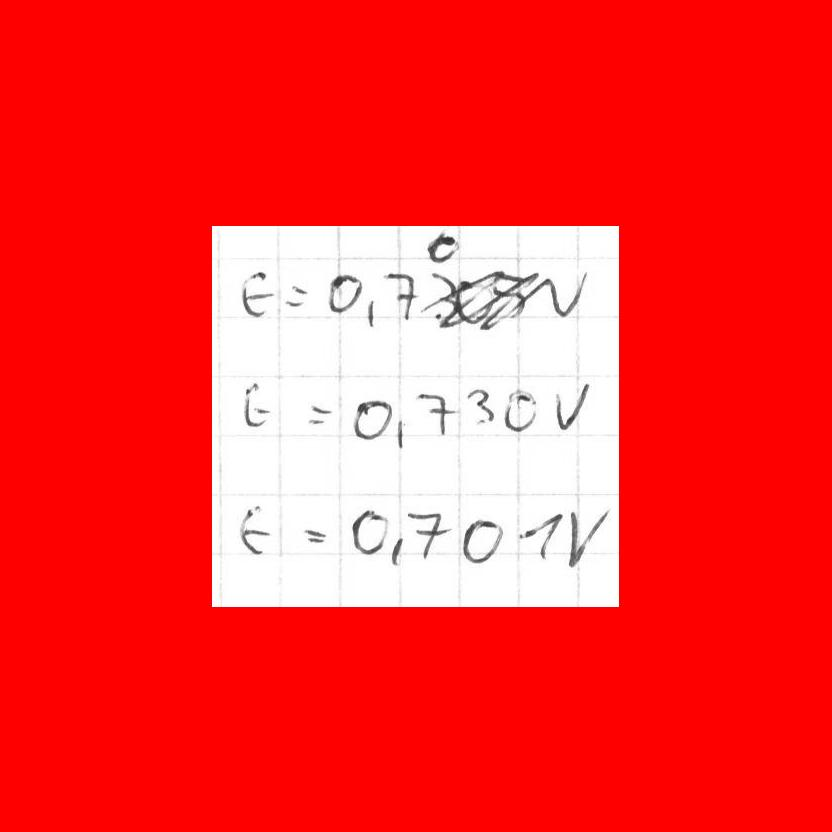Char: (567, 506, 612, 567), (516, 508, 563, 563), (550, 380, 592, 434), (543, 271, 588, 321), (349, 506, 388, 560), (407, 510, 448, 561), (237, 505, 277, 555), (350, 398, 393, 444), (238, 268, 275, 320), (458, 518, 503, 559), (385, 268, 418, 322), (417, 390, 455, 436), (241, 377, 273, 430), (500, 387, 537, 432), (326, 271, 362, 315), (466, 385, 496, 426), (424, 227, 457, 264), (284, 280, 309, 309), (300, 524, 329, 548), (304, 401, 330, 427), (390, 535, 406, 567), (365, 294, 378, 329), (395, 418, 407, 450)
